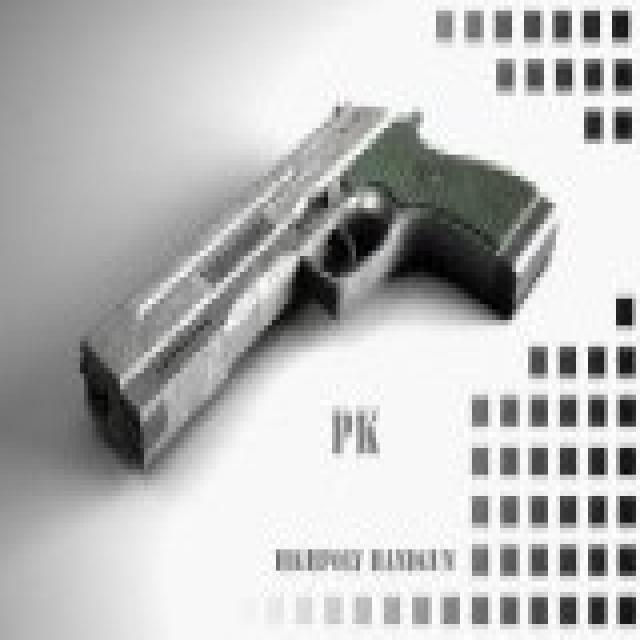Gun: (50, 67, 568, 467)
